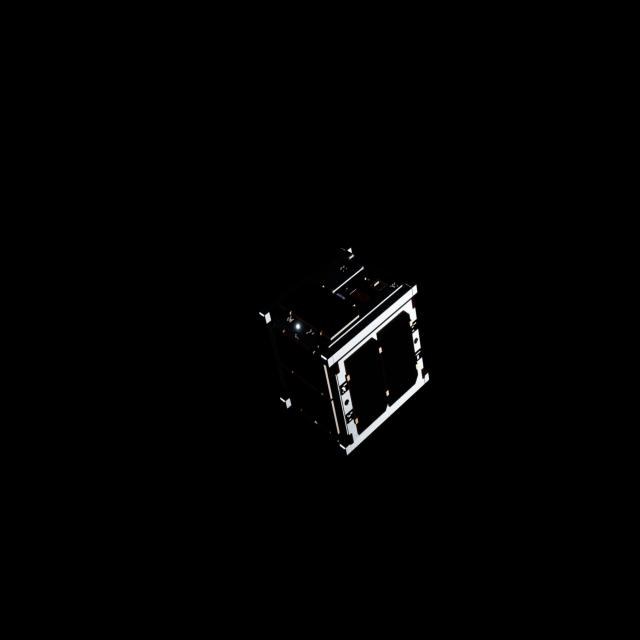medium_debris: (249, 241, 436, 464)
